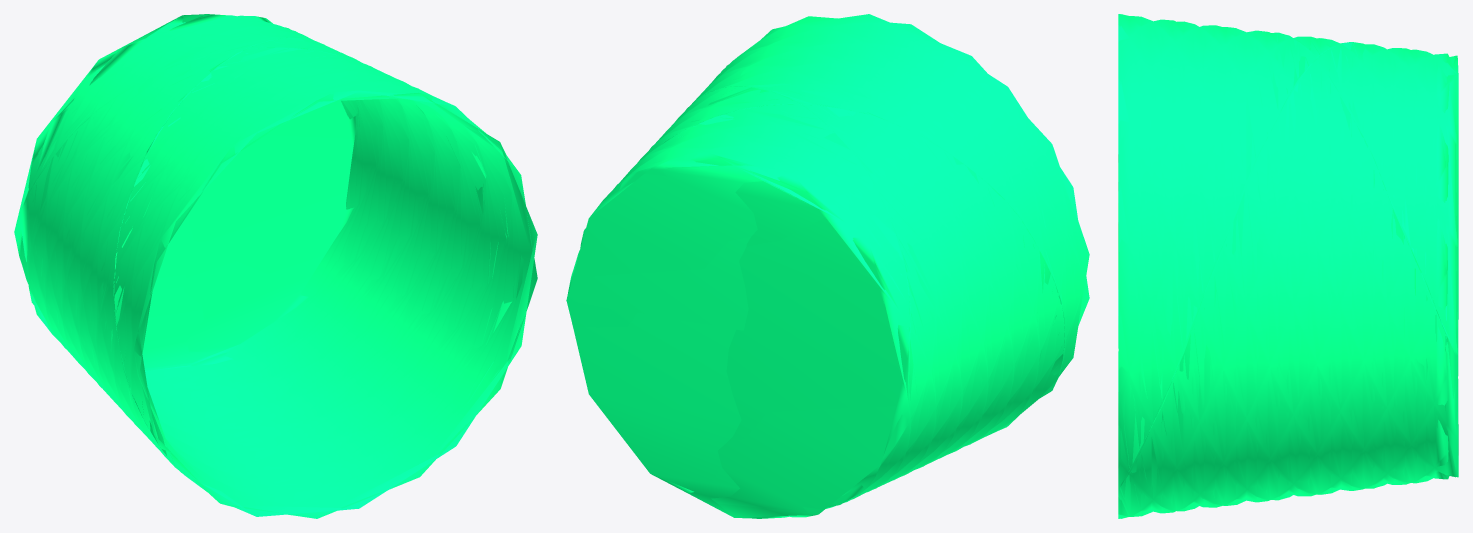
The model's file is newton_raphson_ar_universal.glb.
The picture shows the model from 3 angles, left to right: view 1: azimuth 30°, elevation 25°; view 2: azimuth 150°, elevation 25°; view 3: azimuth 270°, elevation 25°; orthographic projection. The views are drawn at different scales.
Parts seen in each view (by area): view 1: newton_raphson_ar; view 2: newton_raphson_ar; view 3: newton_raphson_ar.
Boxes of the visible parts, bbox=[...] form: newton_raphson_ar: bbox=[14, 14, 537, 518]; newton_raphson_ar: bbox=[566, 14, 1089, 518]; newton_raphson_ar: bbox=[1118, 14, 1458, 518].
Size of the model in its own units: 1 by 1 by 0.6775.
